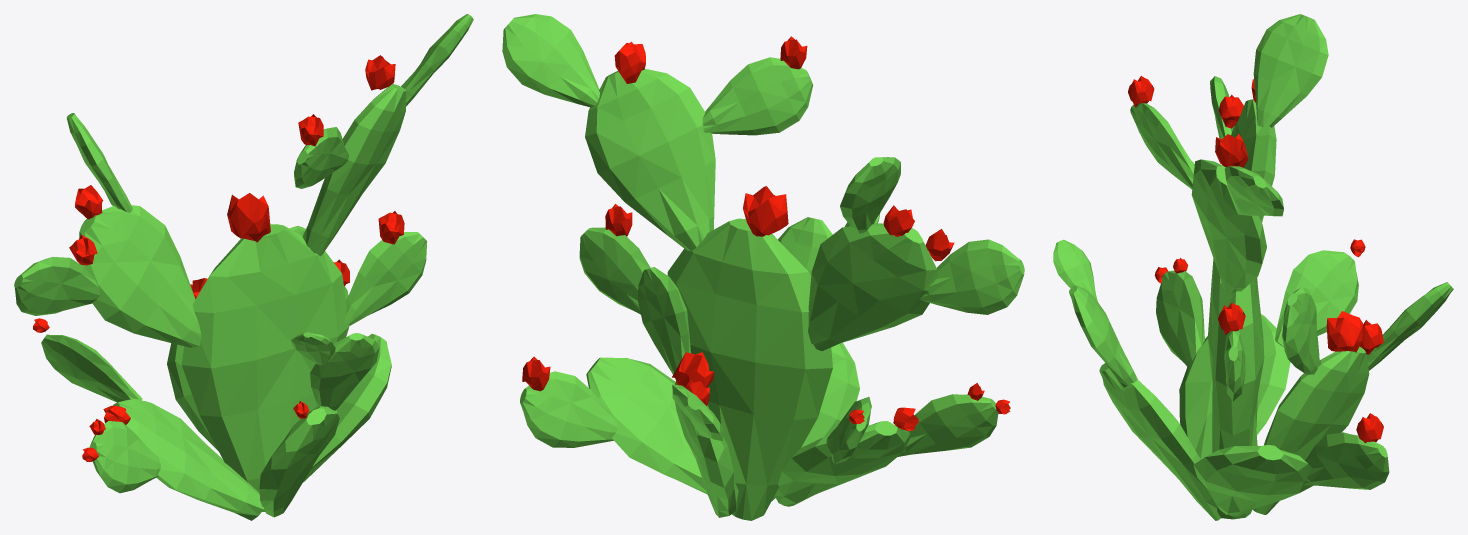
Rendered from PricklyPear.fbx.
3 views of the same model, side by side, from view 1: azimuth 30°, elevation 25°; view 2: azimuth 150°, elevation 25°; view 3: azimuth 270°, elevation 25° (orthographic). The views are drawn at different scales.
Parts seen in each view (by area): view 1: PricklyPear; view 2: PricklyPear; view 3: PricklyPear.
Boxes of the visible parts, x1,y1,x2,y2 form: PricklyPear: (14,14,473,520); PricklyPear: (502,14,1024,520); PricklyPear: (1053,14,1453,520).
Size of the model in its own units: 161 by 140 by 113.
